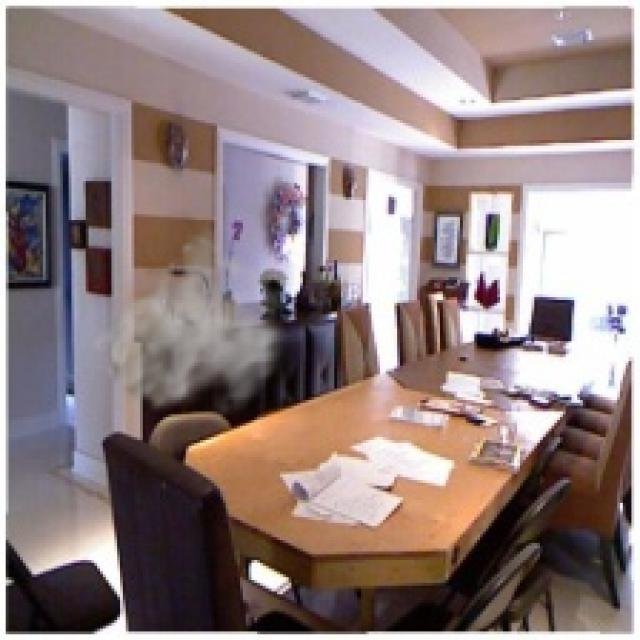smoke: (88, 220, 292, 429)
